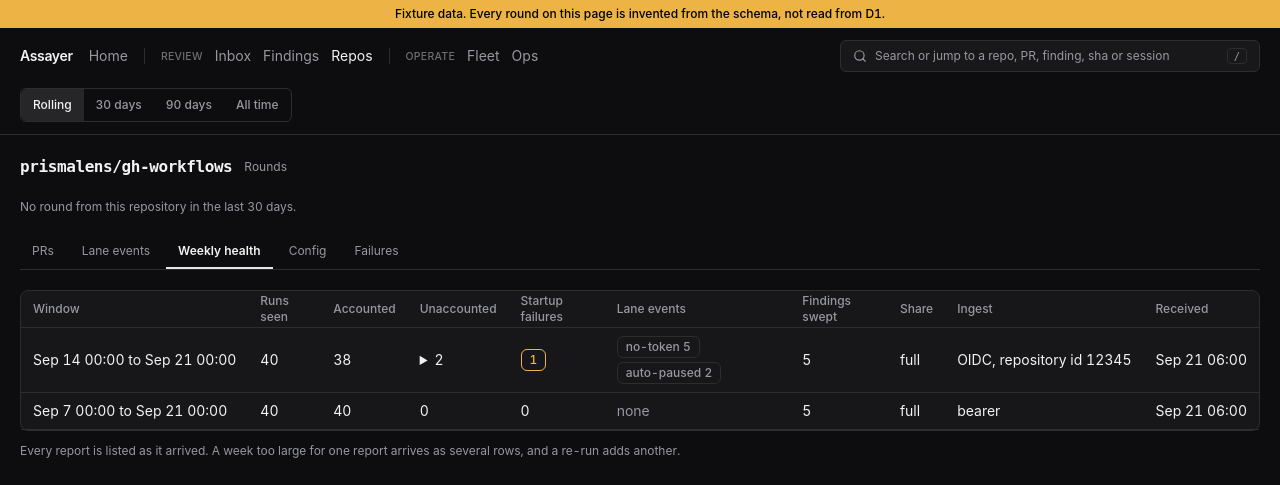
it: /repos/$owner/$repo: the weekly health tab (#179) › expands unaccounted runs into links to their Actions runs, and shows lane events and ingest
Click the heading "2" at {"x": 439, "y": 359}, box [434,350,444,368]
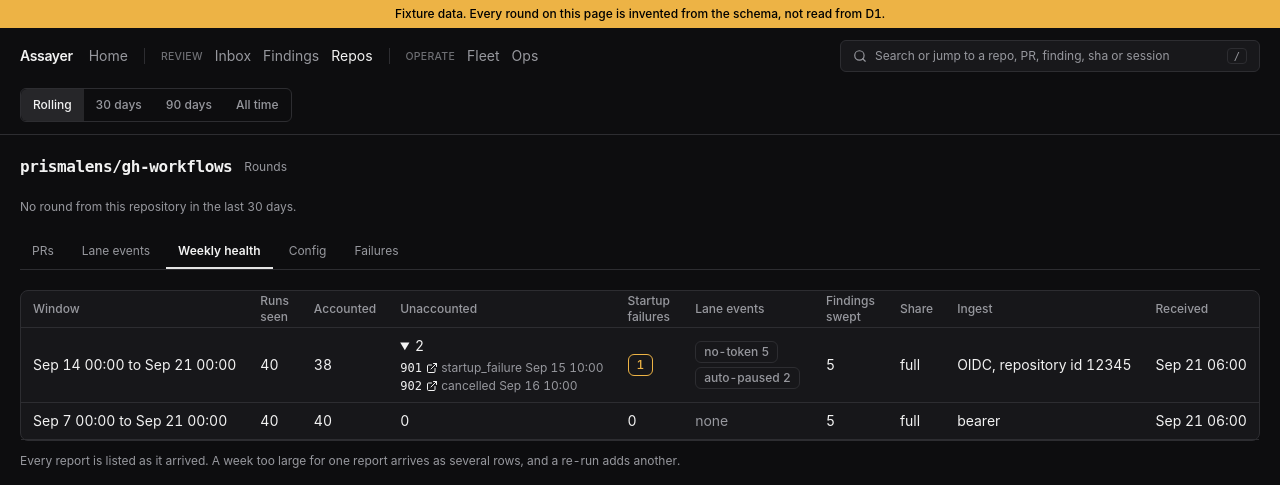
Check: the text "no-token 5" is shown, box [695,340,778,362]
Check: the text "startup_failure" is shown, box [441,360,522,374]
